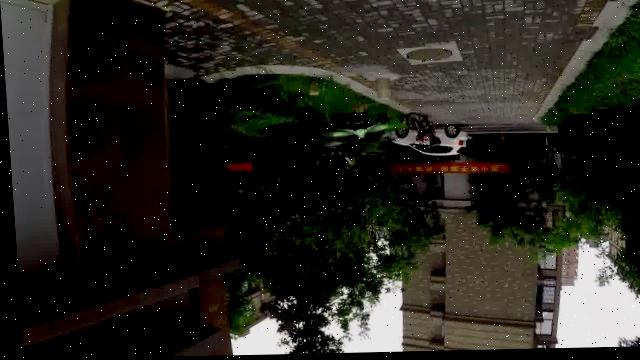drone: (308, 111, 412, 143)
